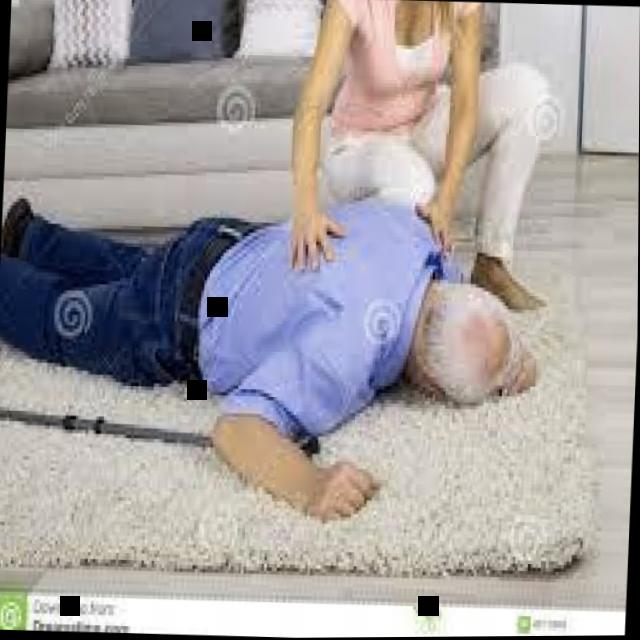Fall-Detected: (0, 111, 558, 544)
